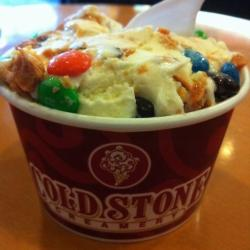icecream: (2, 6, 250, 132)
